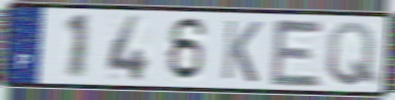1: (62, 12, 93, 82)
4: (104, 13, 154, 84)
6: (164, 15, 208, 84)
E: (268, 16, 327, 89)
K: (219, 17, 264, 85)
Q: (325, 19, 379, 88)
